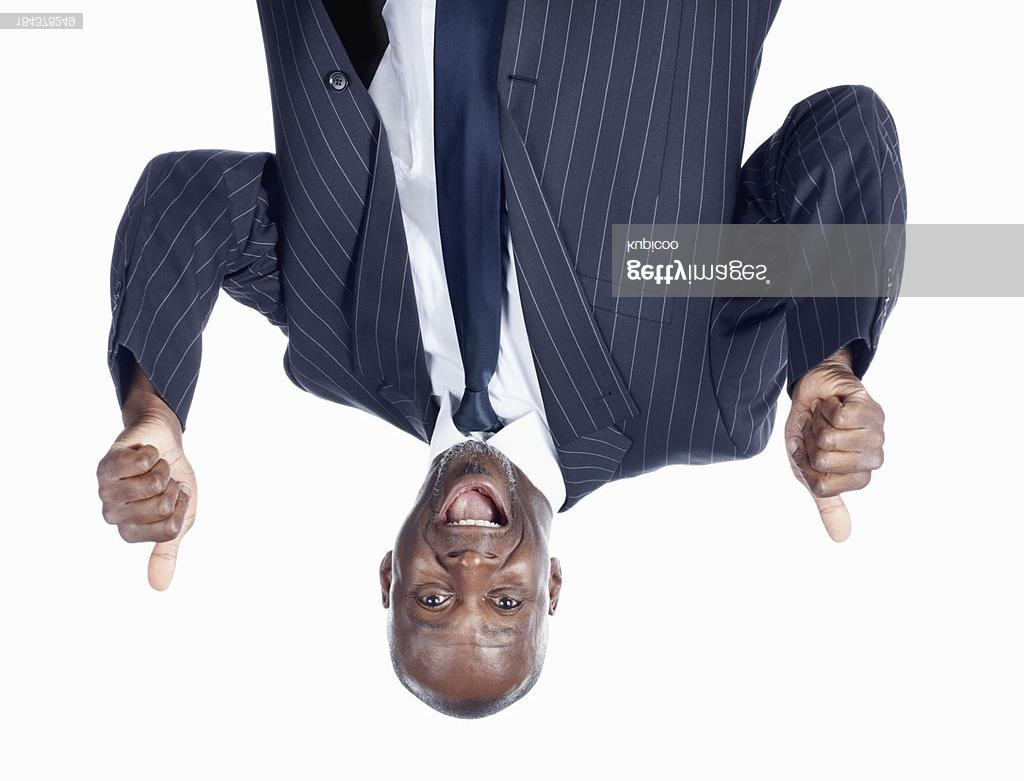thumbsdown: (785, 392, 887, 544), (96, 441, 192, 593)
